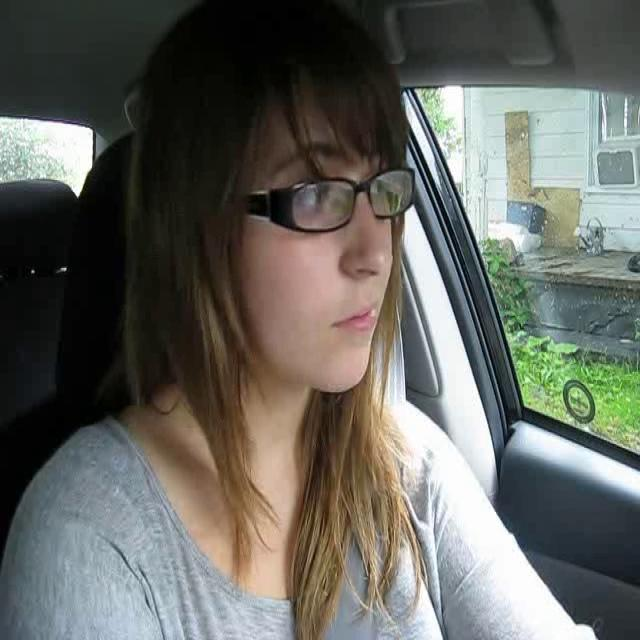close: (329, 301, 380, 337)
